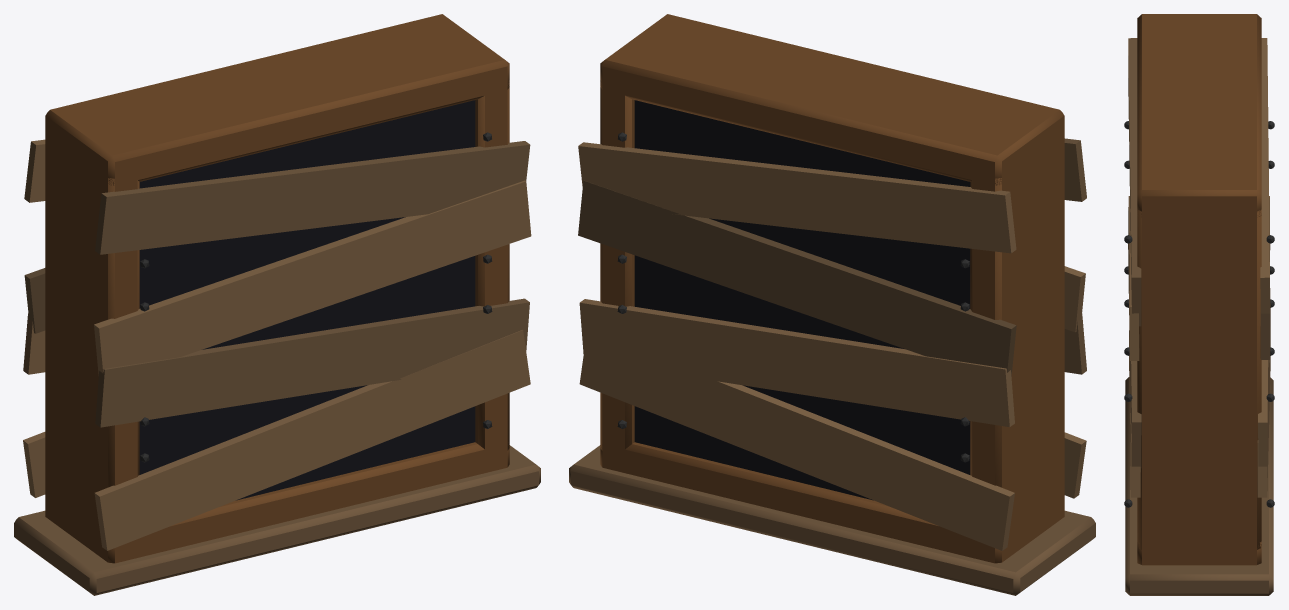
Rendered from window_boarded.glb.
3 renders of one model, left to right at view 1: azimuth 30°, elevation 25°; view 2: azimuth 150°, elevation 25°; view 3: azimuth 270°, elevation 25°, orthographic. The views are drawn at different scales.
Visible parts, largest first — view 1: window_boarded; view 2: window_boarded; view 3: window_boarded.
Boxes of the visible parts, left/top/right/bottom form: window_boarded: left=14, top=14, right=540, bottom=595; window_boarded: left=569, top=14, right=1095, bottom=595; window_boarded: left=1124, top=14, right=1274, bottom=595.
Size of the model in its own units: 2 by 1.82 by 0.628.
